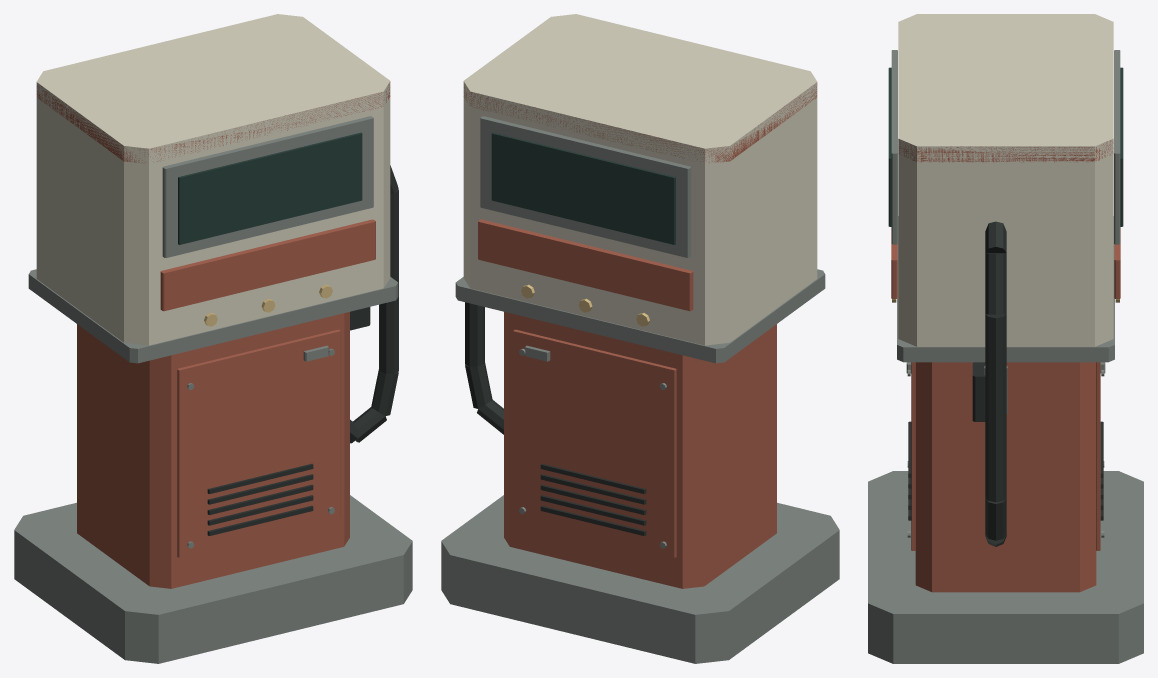
The model's file is fuel_pump.glb.
3 renders of one model, left to right at view 1: azimuth 30°, elevation 25°; view 2: azimuth 150°, elevation 25°; view 3: azimuth 270°, elevation 25°, orthographic.
Visible parts, largest first — view 1: FuelPumpModel; view 2: FuelPumpModel; view 3: FuelPumpModel.
Part boxes in pixels (<box>): FuelPumpModel: <box>14,14,412,663</box>; FuelPumpModel: <box>441,14,839,663</box>; FuelPumpModel: <box>868,14,1143,663</box>.
Bounding box in the file's own units: 1.52 × 2.26 × 1.1.
